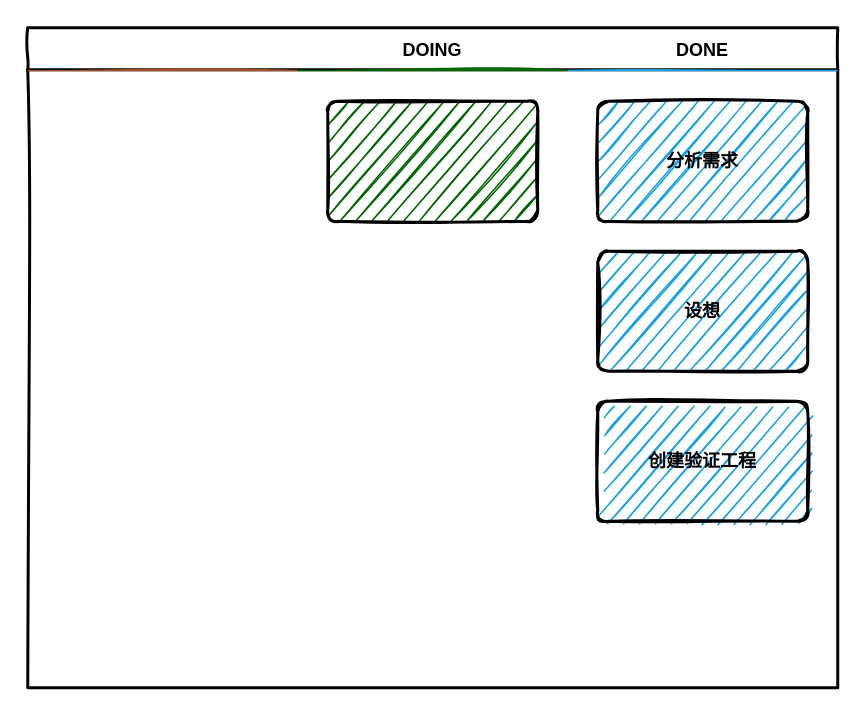
Image size: 864x714. Some labels were removed from this diagram. Each missing label, with the centre of its shape:
TO DO: the point at 162,378
实现设想: the point at 432,160
